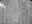person: (1, 2, 7, 8)
